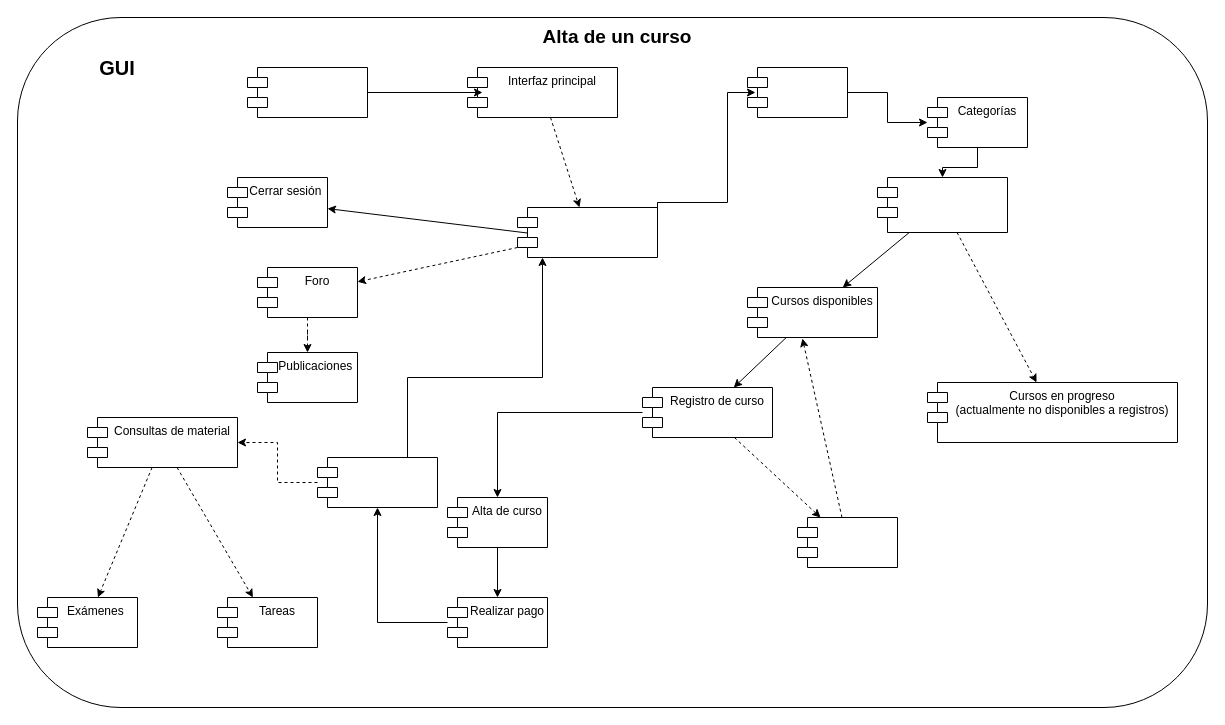
Some shapes in this 1225 by 725 pixel diagram are drawn without their labels. Each missing label, with the centre of its shape:
"Cancelar" goes at (x=847, y=542).
"Catalogo de cursos" goes at (x=942, y=204).
"Curso registrado" goes at (x=377, y=482).
"Cursos" goes at (x=797, y=92).
"Inicio de sesión" goes at (x=307, y=92).
"Menú de navegación" goes at (x=587, y=232).
